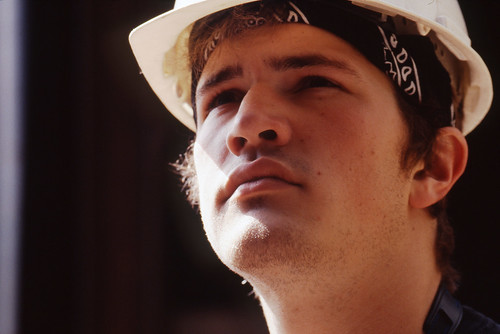person hardhat: (130, 1, 500, 334)
